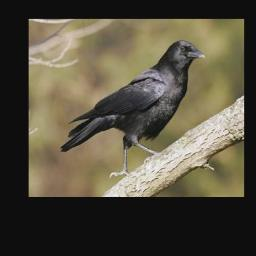Crow: (60, 38, 209, 181)
